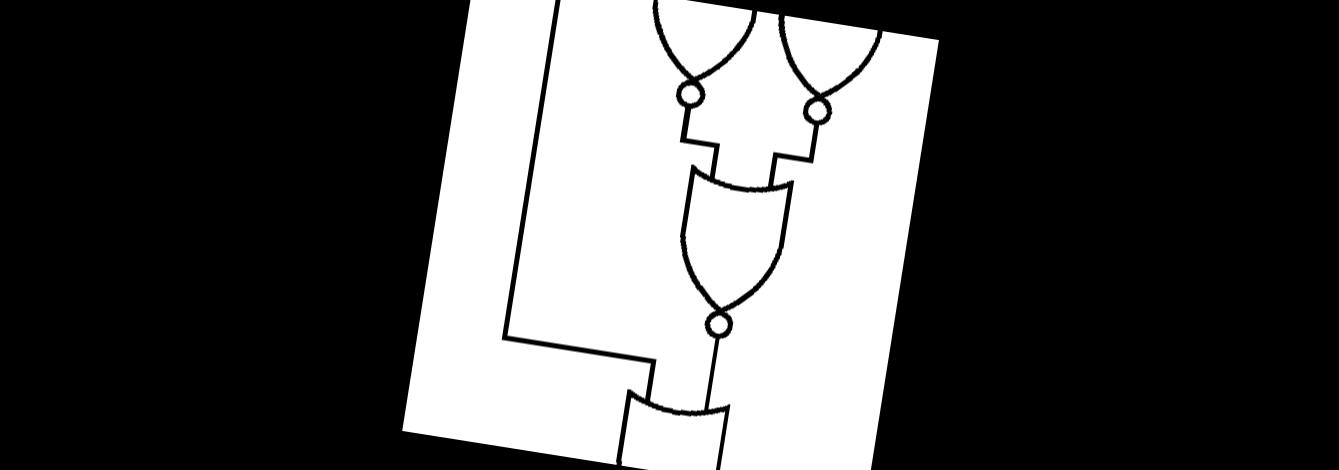nor: (654, 157, 802, 354), (752, 13, 886, 141), (626, 0, 763, 125), (606, 379, 736, 470)
